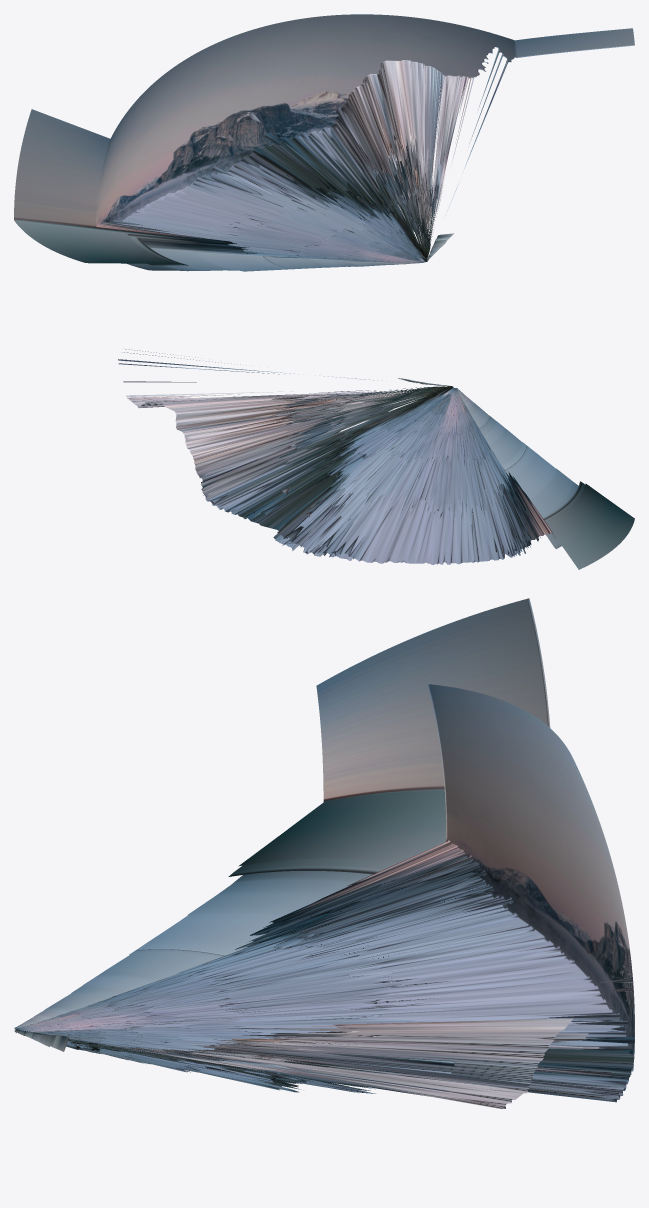
File: world-alpine.glb
3 views of the same model, one above another, from view 1: azimuth 30°, elevation 25°; view 2: azimuth 150°, elevation 25°; view 3: azimuth 270°, elevation 25° (orthographic). The views are drawn at different scales.
Parts seen in each view (by area): view 1: backdrop, near; view 2: backdrop, near; view 3: backdrop, near.
Part boxes in pixels (left/top/right/bottom): backdrop: left=14, top=14, right=634, bottom=271; near: left=348, top=233, right=453, bottom=266; backdrop: left=118, top=349, right=634, bottom=569; near: left=390, top=378, right=495, bottom=422; backdrop: left=73, top=598, right=634, bottom=1109; near: left=14, top=985, right=95, bottom=1051.
Size of the model in its own units: 1189 by 297 by 598.
Materials: 1 (1 with a texture image).
